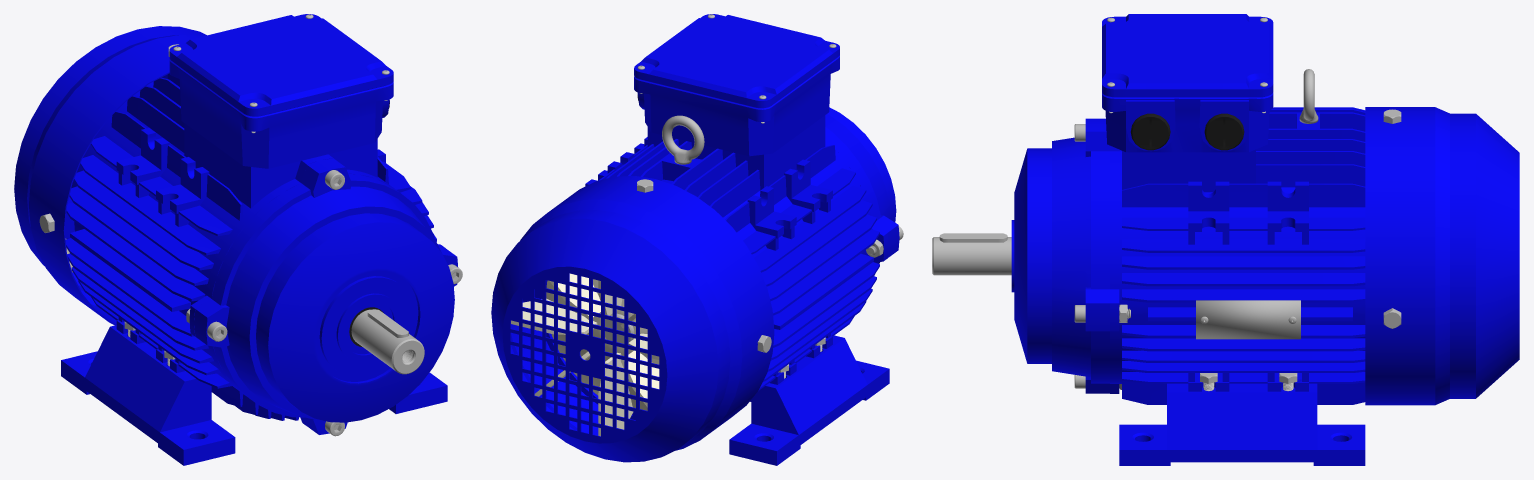
The model's file is Electric motor.fbx.
3 renders of one model, left to right at view 1: azimuth 30°, elevation 25°; view 2: azimuth 150°, elevation 25°; view 3: azimuth 270°, elevation 25°, orthographic. The views are drawn at different scales.
Parts seen in each view (by area): view 1: End bell, Casing, Electric shield, Cover, Legs, Shaft, Nut, Pin; view 2: Cover, Casing, Electric shield, Legs, Fan, End bell, Rim Bolt; view 3: Casing, Cover, End bell, Electric shield, Legs, Plane, Shaft, Caps, Nut, Rim Bolt, Pin.
Boxes of the visible parts, x1=… form: End bell: x1=194, y1=158, x2=458, y2=434; Casing: x1=65, y1=73, x2=444, y2=425; Electric shield: x1=169, y1=14, x2=393, y2=168; Cover: x1=14, y1=26, x2=206, y2=325; Legs: x1=61, y1=325, x2=447, y2=465; Shaft: x1=351, y1=309, x2=424, y2=374; Nut: x1=186, y1=170, x2=462, y2=436; Pin: x1=367, y1=309, x2=408, y2=337; Cover: x1=491, y1=176, x2=774, y2=462; Casing: x1=522, y1=115, x2=888, y2=420; Electric shield: x1=634, y1=14, x2=839, y2=156; Legs: x1=729, y1=335, x2=889, y2=465; Fan: x1=511, y1=273, x2=659, y2=436; End bell: x1=825, y1=107, x2=899, y2=275; Rim Bolt: x1=662, y1=115, x2=704, y2=164; Casing: x1=1110, y1=107, x2=1365, y2=404; Cover: x1=1365, y1=107, x2=1519, y2=405; End bell: x1=1011, y1=118, x2=1109, y2=393; Electric shield: x1=1102, y1=14, x2=1273, y2=152; Legs: x1=1119, y1=383, x2=1365, y2=465; Plane: x1=1196, y1=300, x2=1300, y2=339; Shaft: x1=932, y1=237, x2=1011, y2=275; Caps: x1=1130, y1=113, x2=1244, y2=150; Nut: x1=1074, y1=124, x2=1130, y2=389; Rim Bolt: x1=1299, y1=69, x2=1318, y2=123; Pin: x1=939, y1=233, x2=1007, y2=242.
Bounding box in the file's own units: 22.93 × 28.48 × 42.97.
